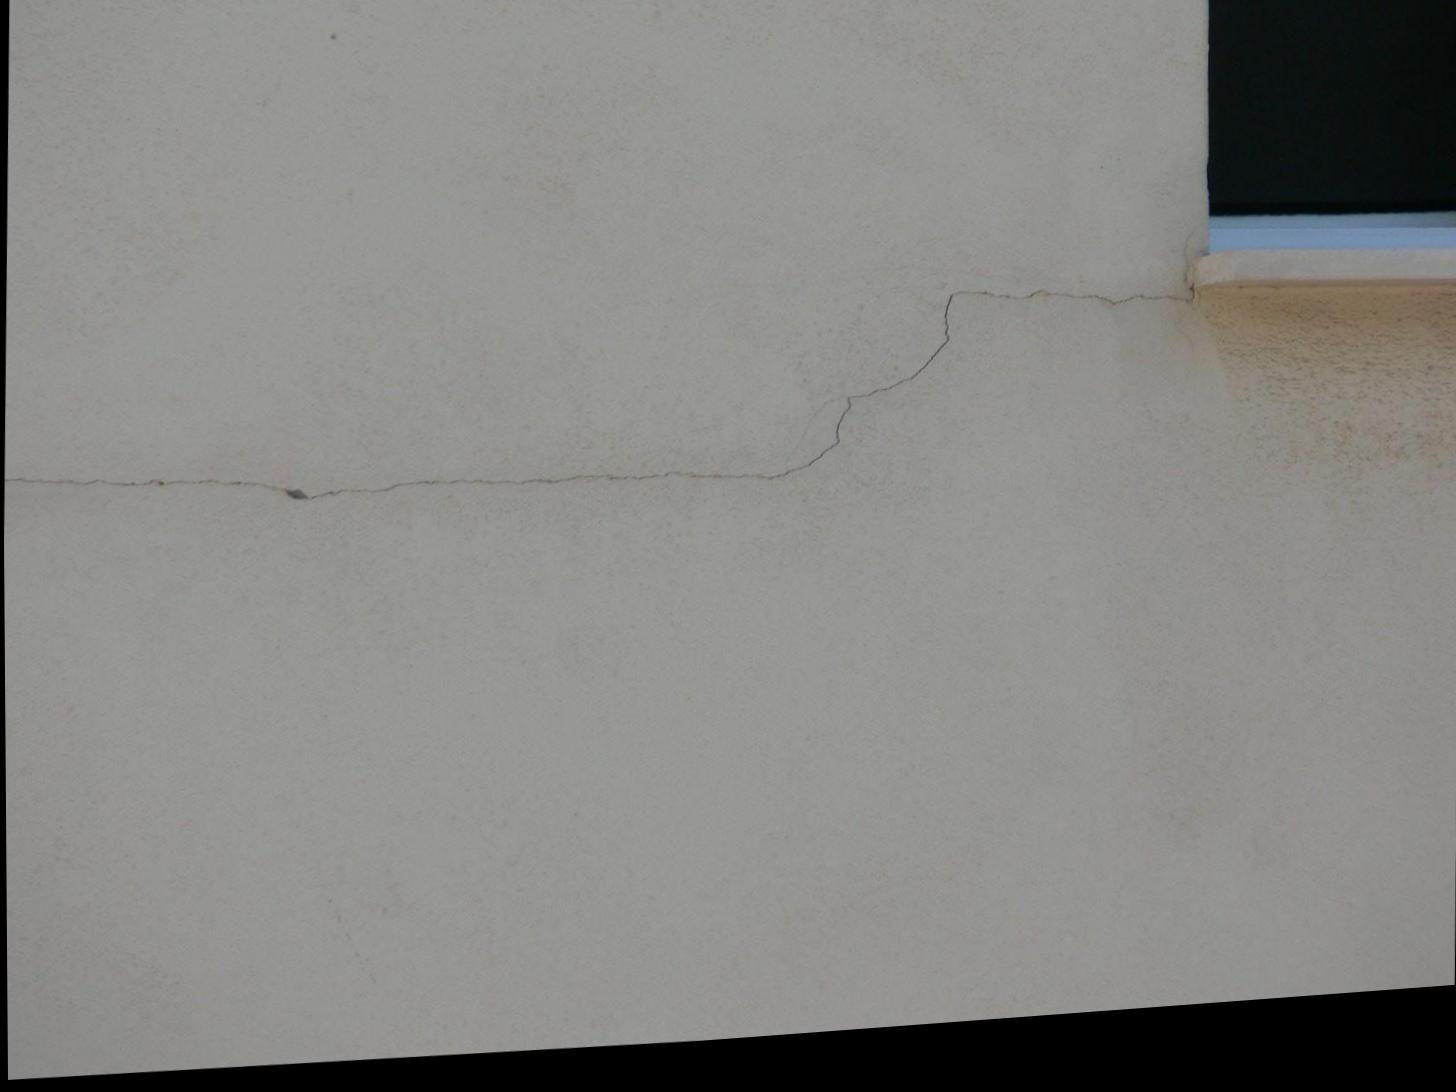crack: (3, 304, 1195, 504)
